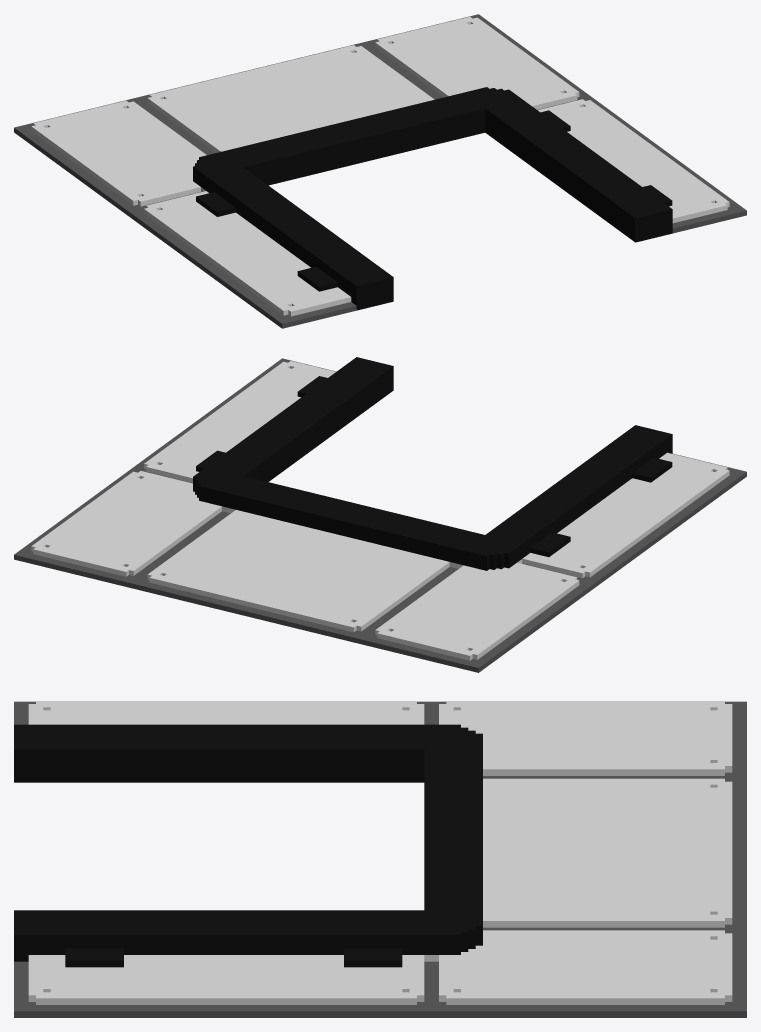
File: a792_DoorPanel.obj
The picture shows the model from 3 angles, top to bottom: view 1: azimuth 30°, elevation 25°; view 2: azimuth 150°, elevation 25°; view 3: azimuth 270°, elevation 25°; orthographic projection. The views are drawn at different scales.
Size of the model in its own units: 100 by 5 by 100.
